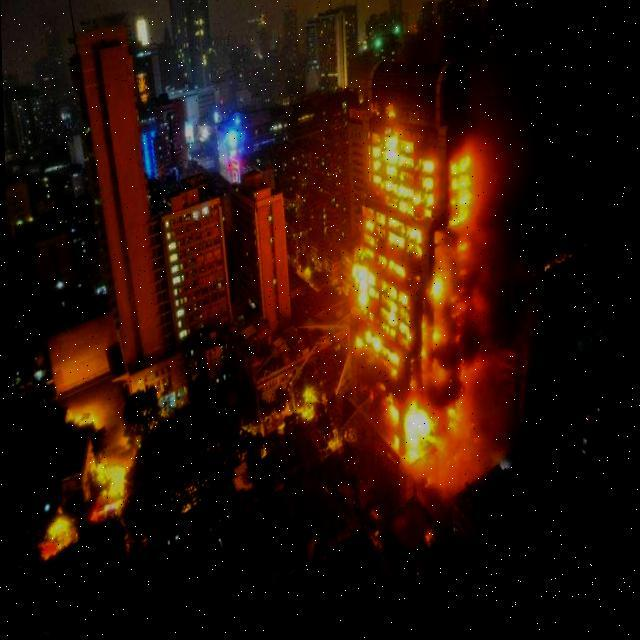Fire: (346, 103, 482, 480)
